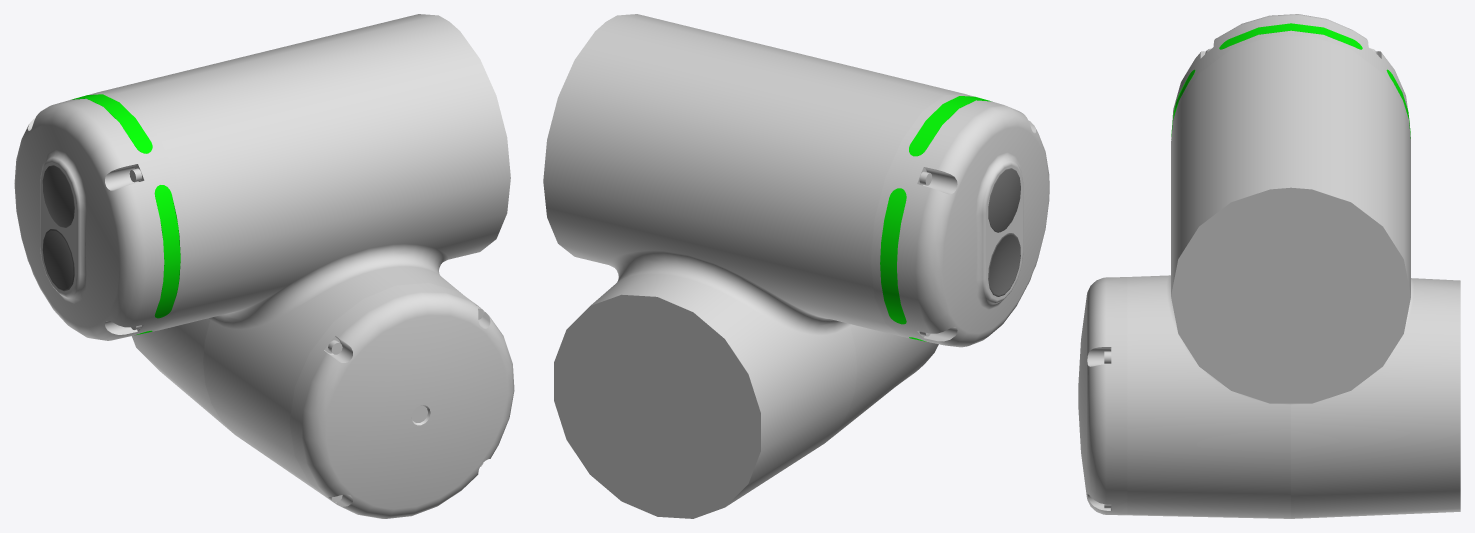
3 renders of one model, left to right at view 1: azimuth 30°, elevation 25°; view 2: azimuth 150°, elevation 25°; view 3: azimuth 270°, elevation 25°, orthographic. The views are drawn at different scales.
Visible parts, largest first — view 1: Link5 (×3); view 2: Link5 (×3); view 3: Link5 (×2).
Boxes of the visible parts, <box> form: Link5 (×3): <box>14,14,514,518</box>; Link5 (×3): <box>543,14,1049,518</box>; Link5 (×2): <box>1078,14,1460,518</box>.
Size of the model in its own units: 0.1953 by 0.168 by 0.1868.
